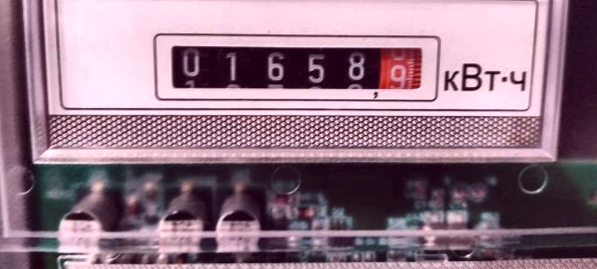0: (181, 46, 201, 76)
1: (224, 49, 241, 81)
5: (306, 51, 327, 82)
6: (266, 48, 286, 81)
8: (347, 48, 367, 80)
9: (387, 62, 408, 90)
screen: (145, 24, 445, 107)
